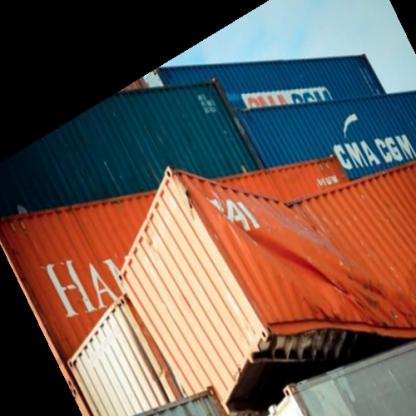Damage: (212, 198, 414, 354)
